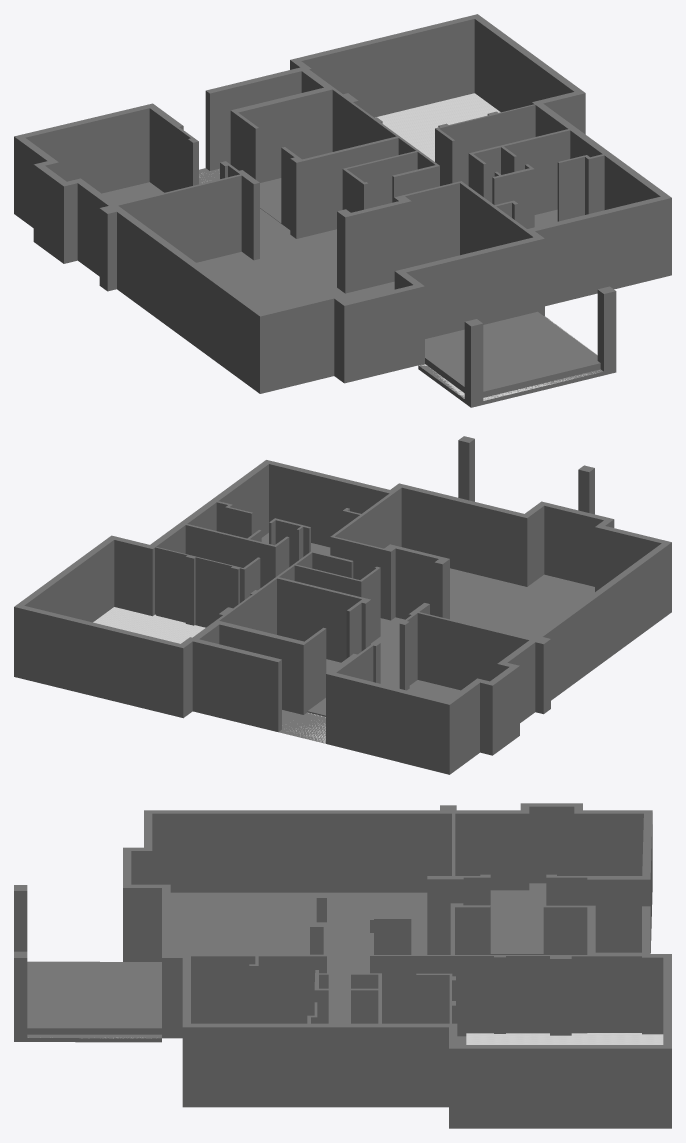
Rendered from rooms_lightgroup.gltf.
3 views of the same model, one above another, from view 1: azimuth 30°, elevation 25°; view 2: azimuth 150°, elevation 25°; view 3: azimuth 270°, elevation 25° (orthographic). The views are drawn at different scales.
Visible parts, largest first — view 1: root, object 2; view 2: root, object 2; view 3: root, object 2.
Part boxes in pixels (x1=…): root: x1=14, y1=14, x2=671, y2=407; object 2: x1=199, y1=93, x2=599, y2=400; root: x1=14, y1=436, x2=671, y2=774; object 2: x1=93, y1=607, x2=325, y2=743; root: x1=14, y1=803, x2=671, y2=1128; object 2: x1=105, y1=1033, x2=663, y2=1044.
Bounding box in the file's own units: 15.78 × 2.52 × 17.87.
Materials: 2 (1 with a texture image).
